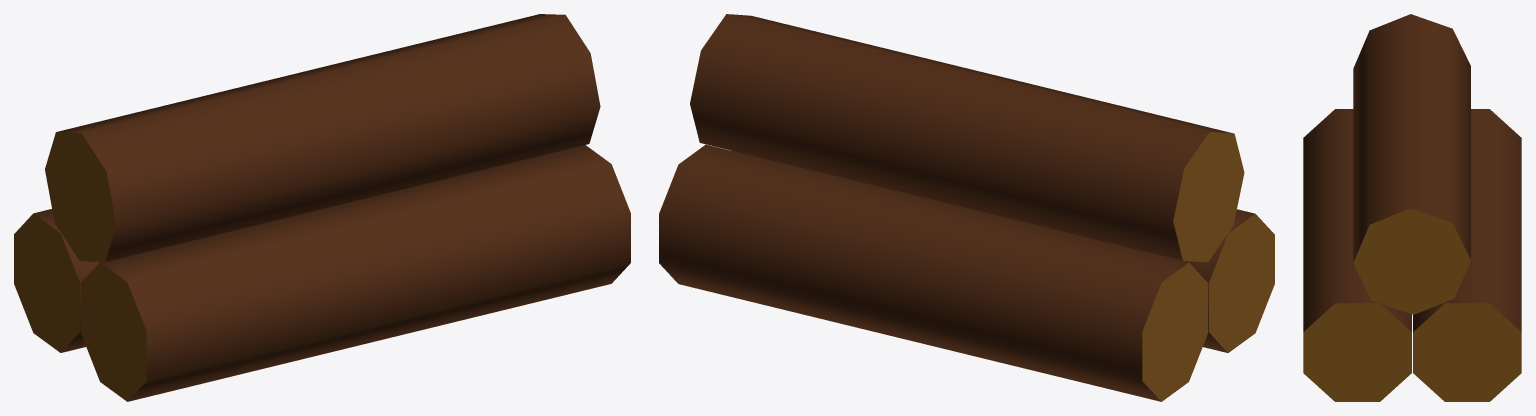
File: LogPile.fbx
3 views of the same model, side by side, from view 1: azimuth 30°, elevation 25°; view 2: azimuth 150°, elevation 25°; view 3: azimuth 270°, elevation 25° (orthographic). The views are drawn at different scales.
Parts seen in each view (by area): view 1: VillagerLogPile; view 2: VillagerLogPile; view 3: VillagerLogPile.
Boxes of the visible parts, bbox=[...] form: VillagerLogPile: bbox=[14, 14, 630, 401]; VillagerLogPile: bbox=[659, 14, 1274, 401]; VillagerLogPile: bbox=[1303, 14, 1521, 401].
Size of the model in its own units: 50.66 by 23.53 by 24.07.
